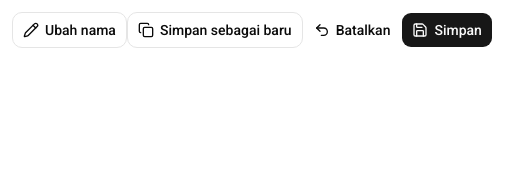
Test: ViewActions › draft buttons › Simpan keeps the draft and shows the server error when saving fails
Click the button "Simpan".
click(447, 30)  # box left=402, top=12, right=493, bottom=48
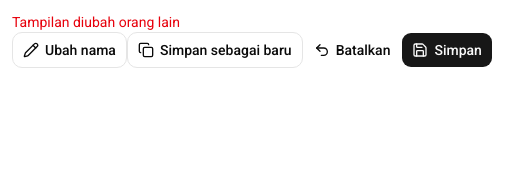
Expected: the message reads "Tampilan diubah orang lain", left=12, top=14, right=180, bottom=30
